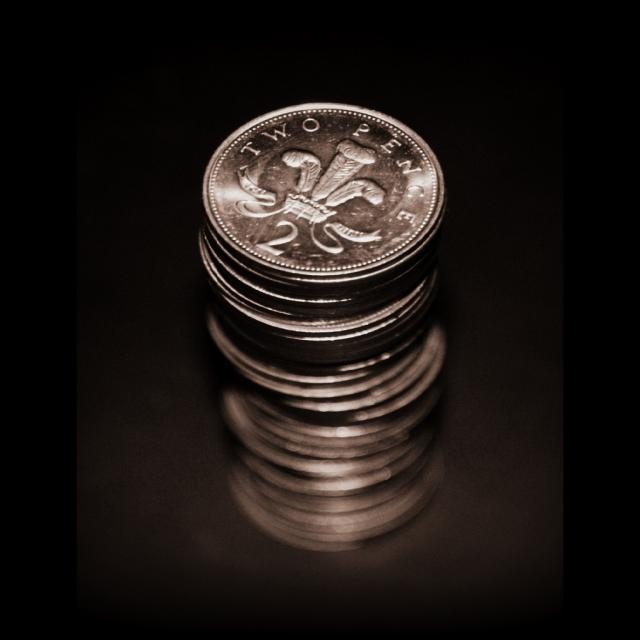Coin: (194, 95, 452, 547)
